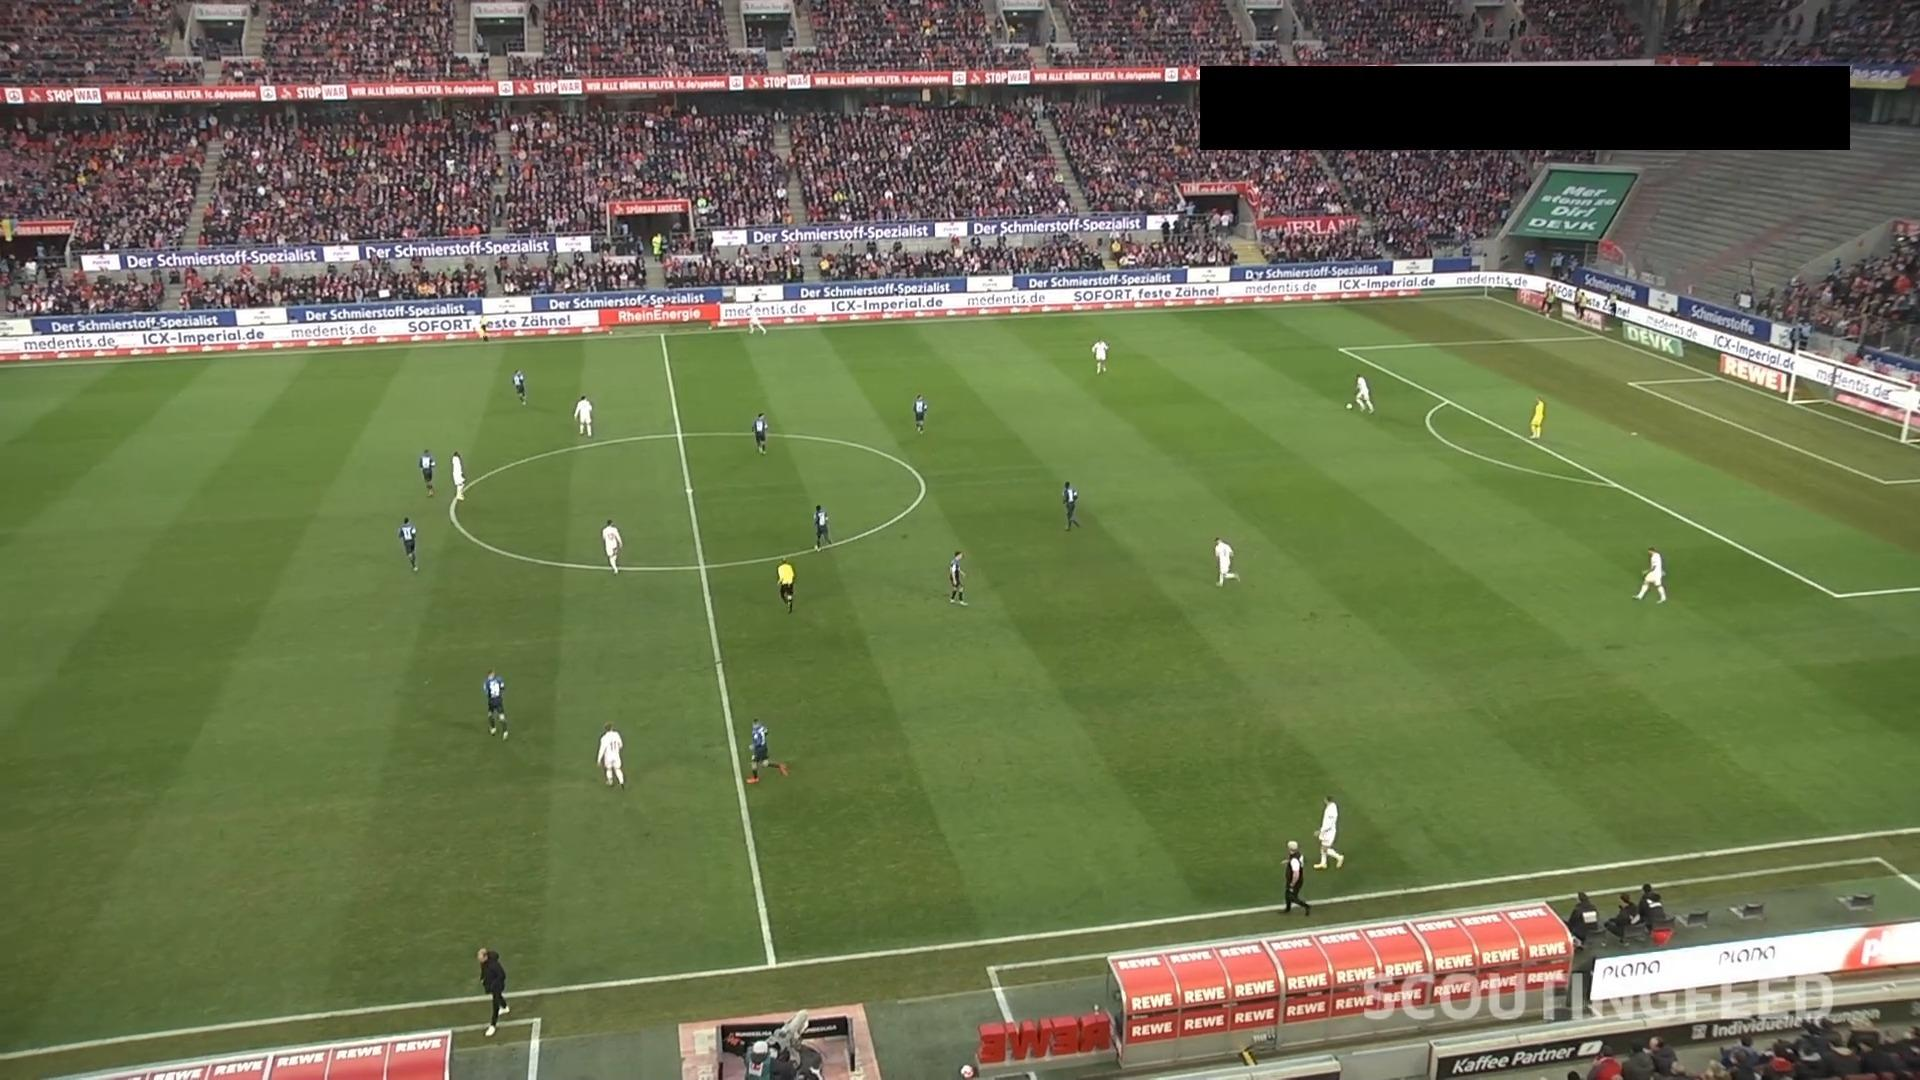ball: (1344, 402, 1353, 410)
